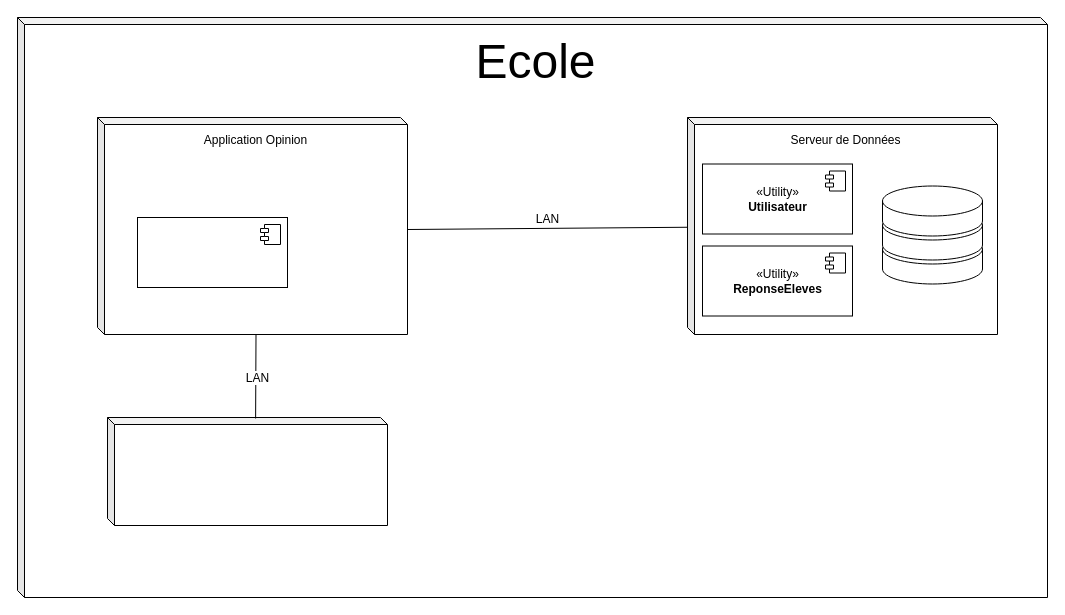
Image size: 1065x615. Some labels were removed from this diagram. The centre of each missing label's shape, as x and y in pixels:
Périphérique d'impression: [247,471]
«Executable» IHM Opinion: [212,252]
